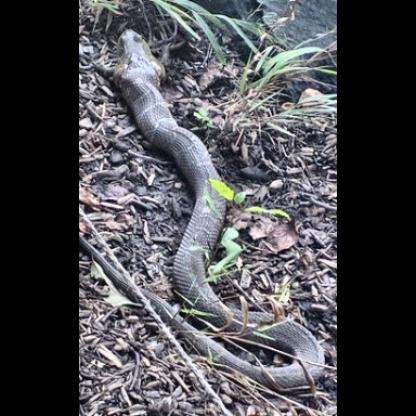Snake: (106, 19, 327, 390)
